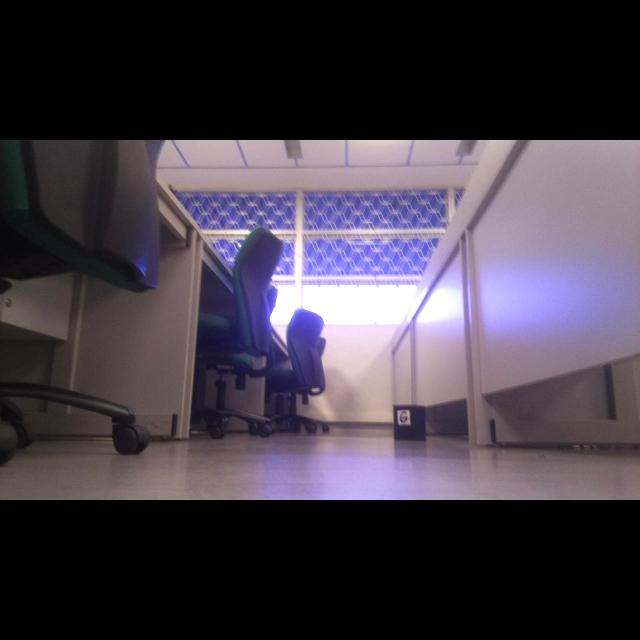G: (400, 411, 407, 422)
